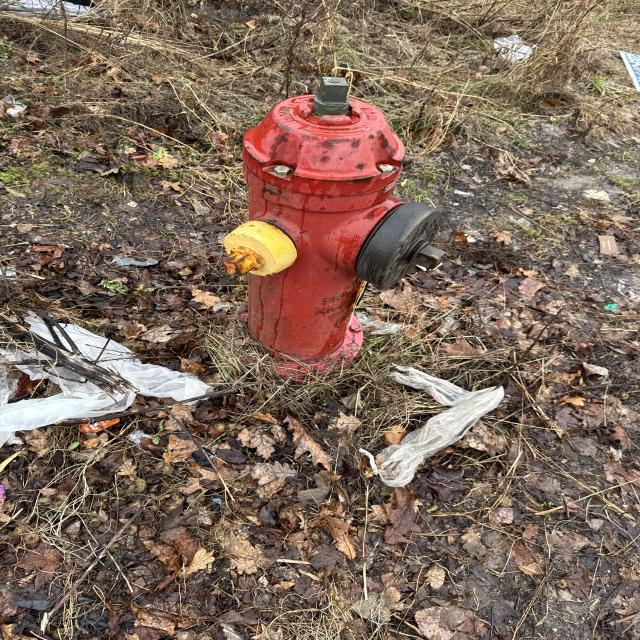Fire hydrant: (220, 76, 447, 382)
